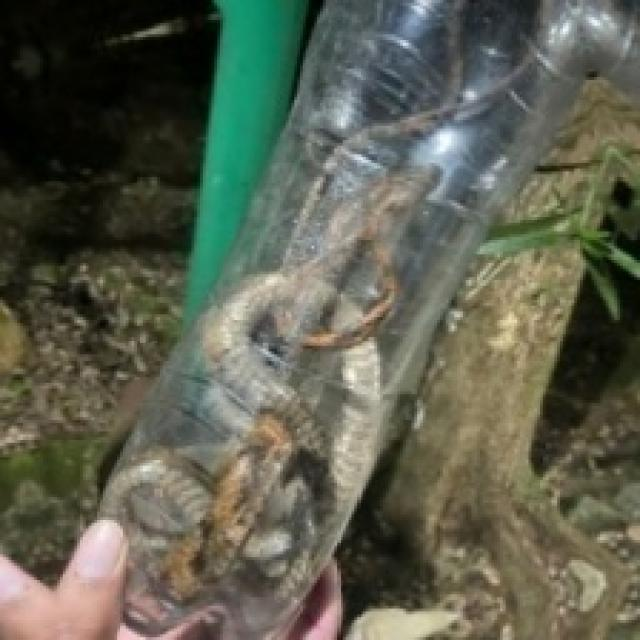philippine blunt-headed catsnake: (100, 0, 637, 637)
